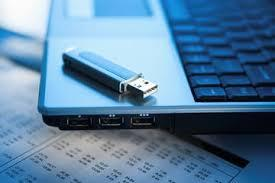Flash-drive: (57, 43, 163, 110)
